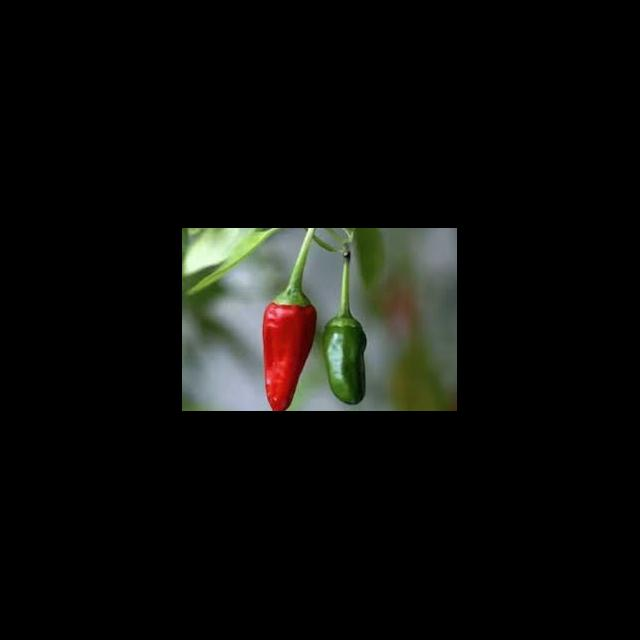chili_pepper: (258, 302, 318, 409), (324, 314, 368, 406)
